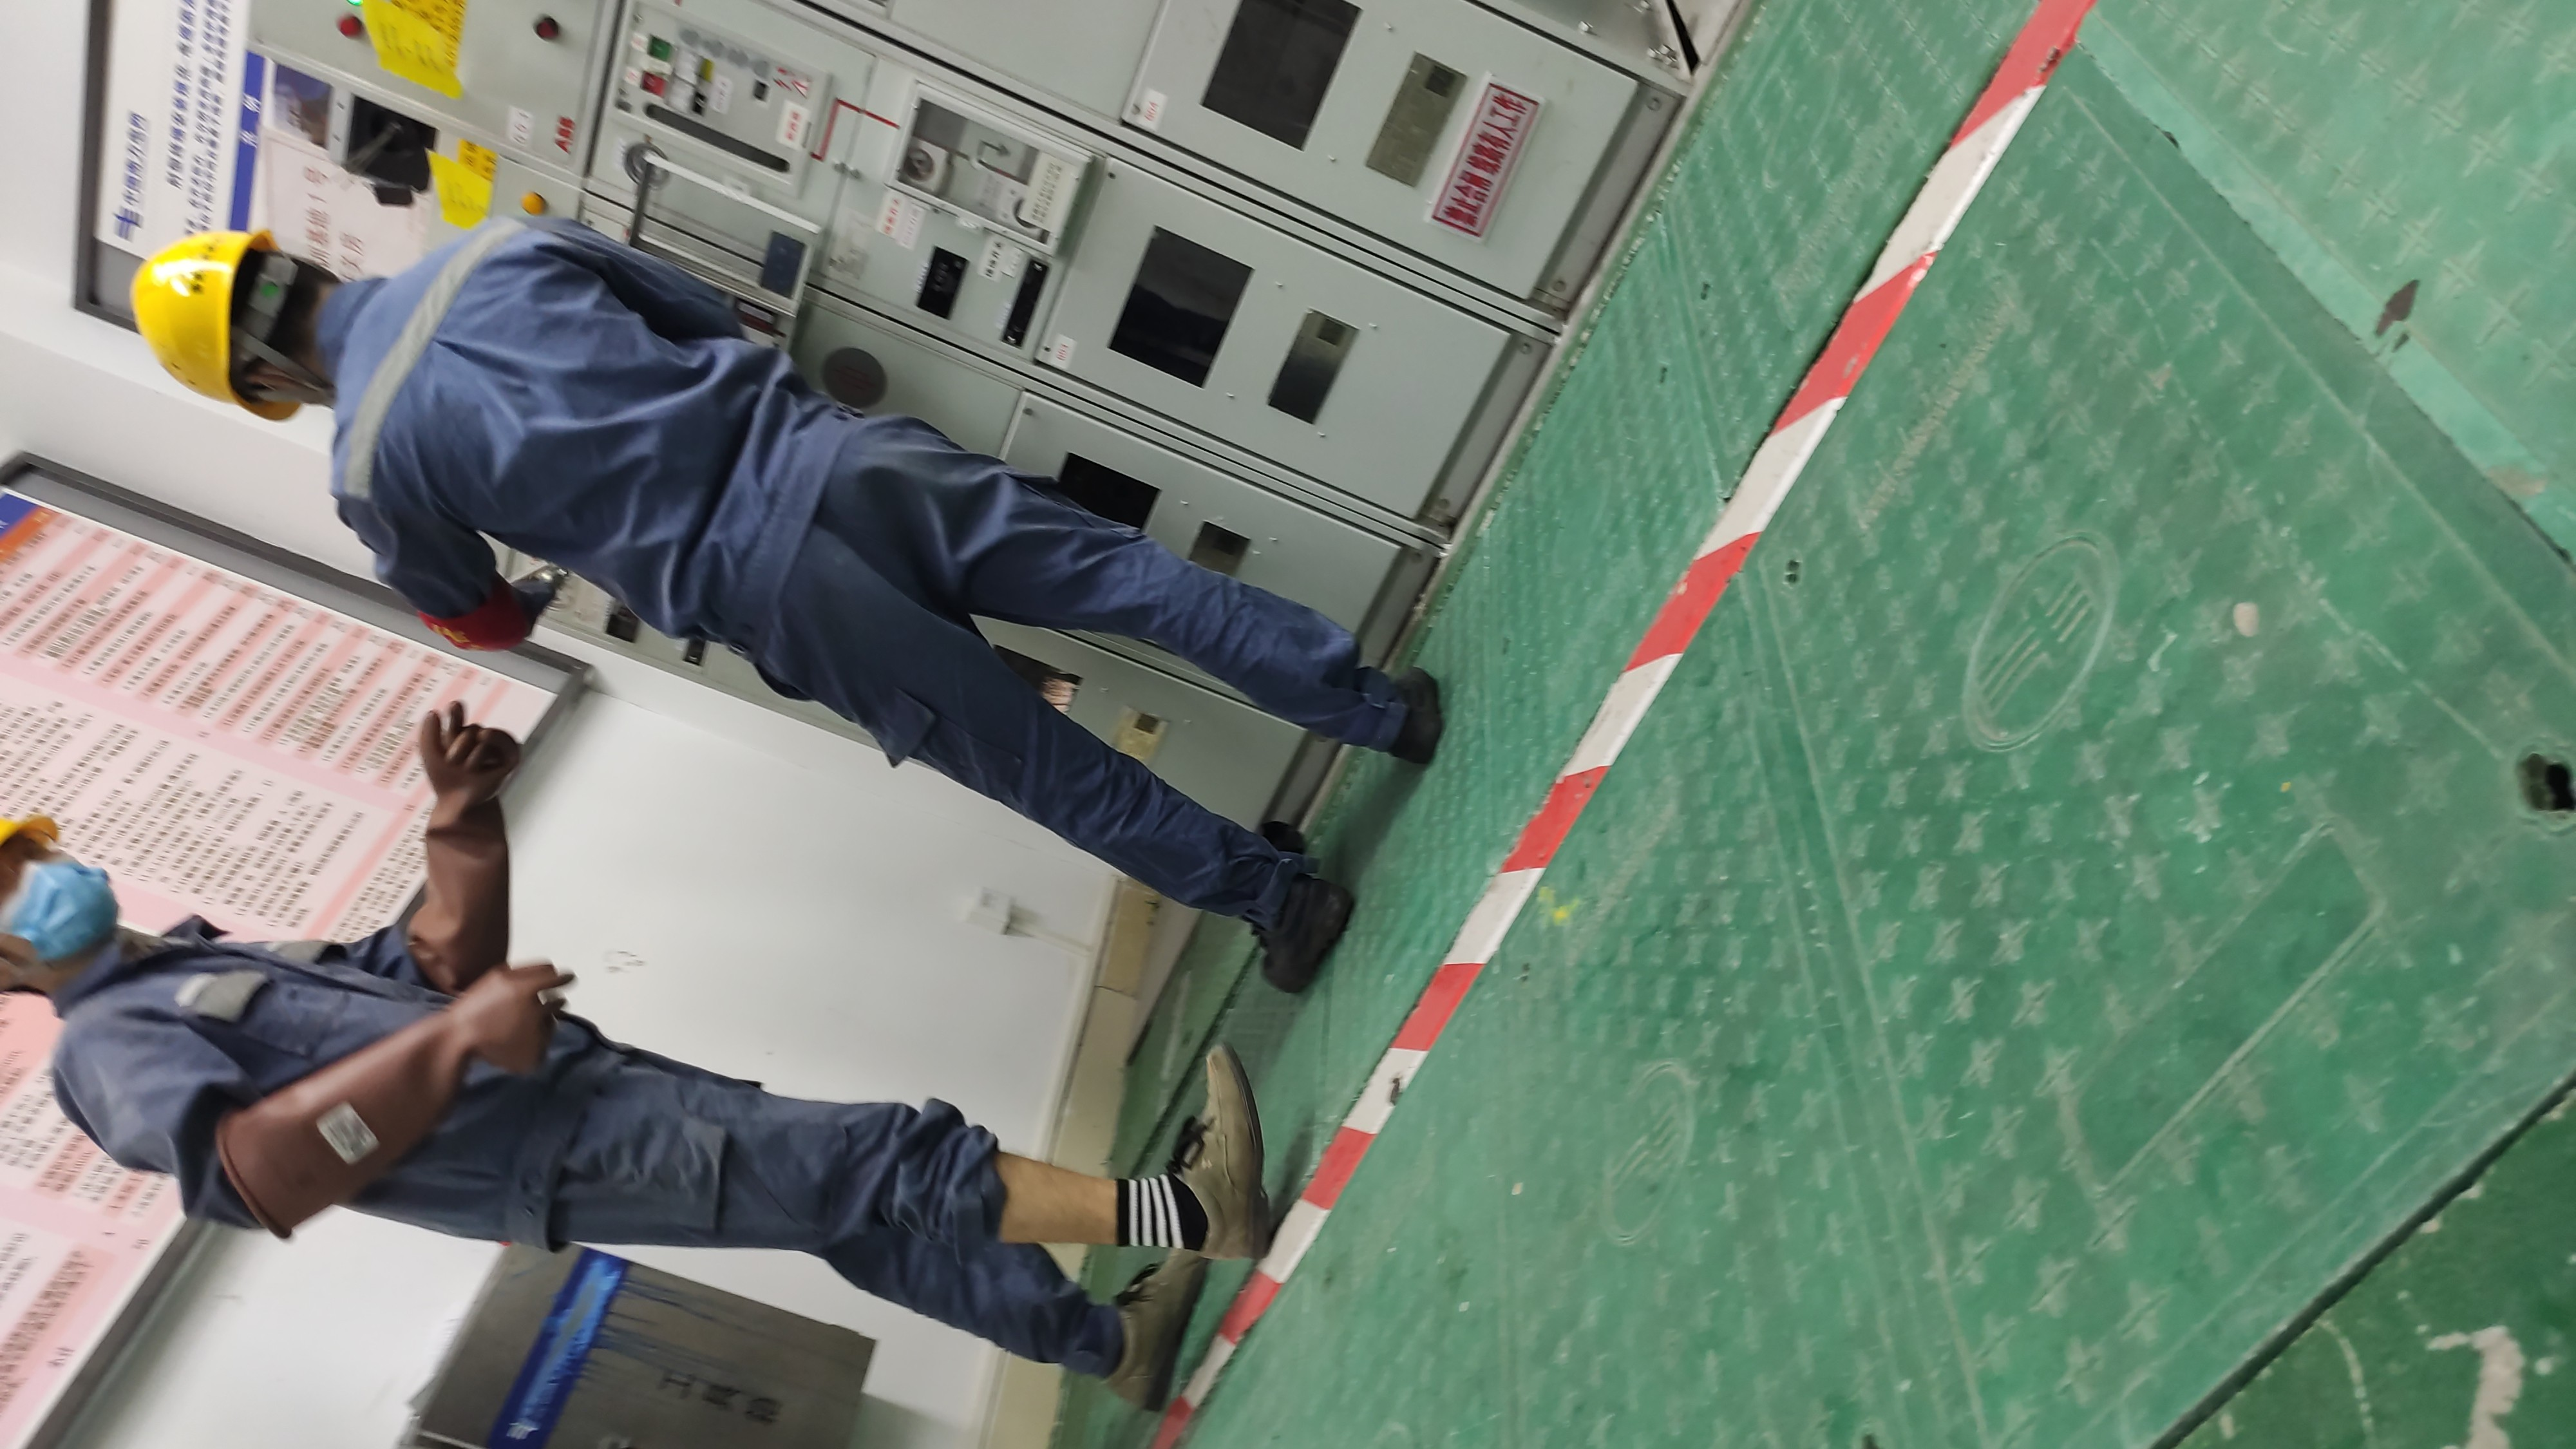downsuit: (787, 442, 1398, 927), (582, 1051, 1242, 1355)
upsuit: (327, 230, 809, 623), (57, 932, 541, 1246)
wrongbottom: (897, 1118, 1122, 1254)
